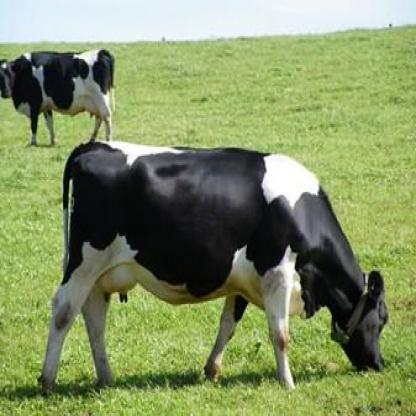cow: (37, 140, 389, 392), (0, 47, 116, 145)
